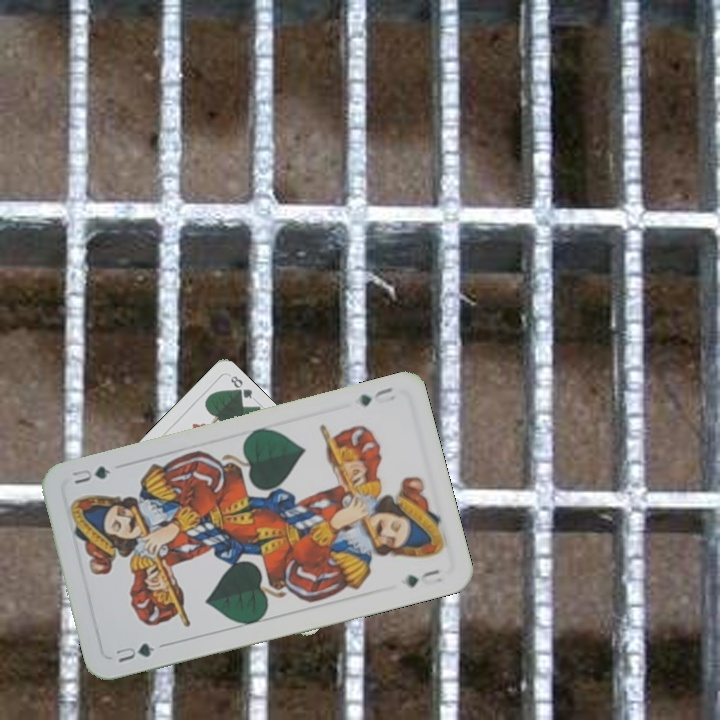GU: (111, 638, 157, 666), (354, 383, 398, 409)
